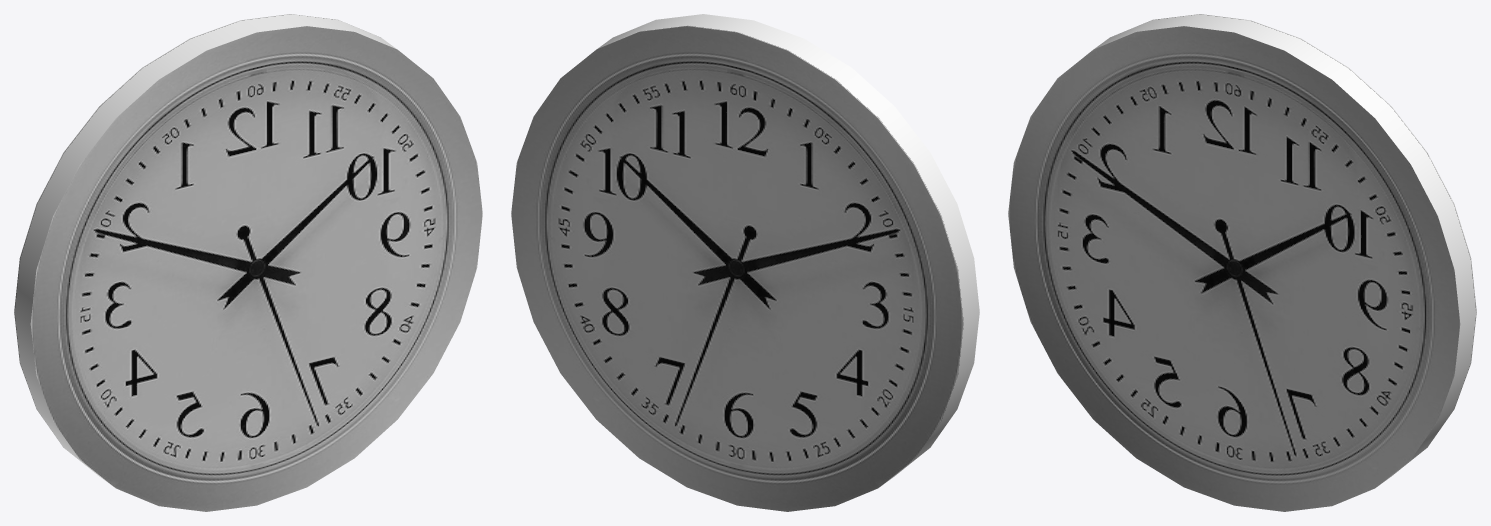
The model's file is Classroom-90.FBX.
3 views of the same model, side by side, from view 1: azimuth 30°, elevation 25°; view 2: azimuth 150°, elevation 25°; view 3: azimuth 330°, elevation 25° (orthographic).
Parts seen in each view (by area): view 1: Classroom-90; view 2: Classroom-90; view 3: Classroom-90.
Boxes of the visible parts, box(x1,y1,x2,y2) form: Classroom-90: box(14, 14, 482, 511); Classroom-90: box(511, 14, 979, 511); Classroom-90: box(1008, 14, 1476, 511).
Size of the model in its own units: 632 by 632 by 40.
